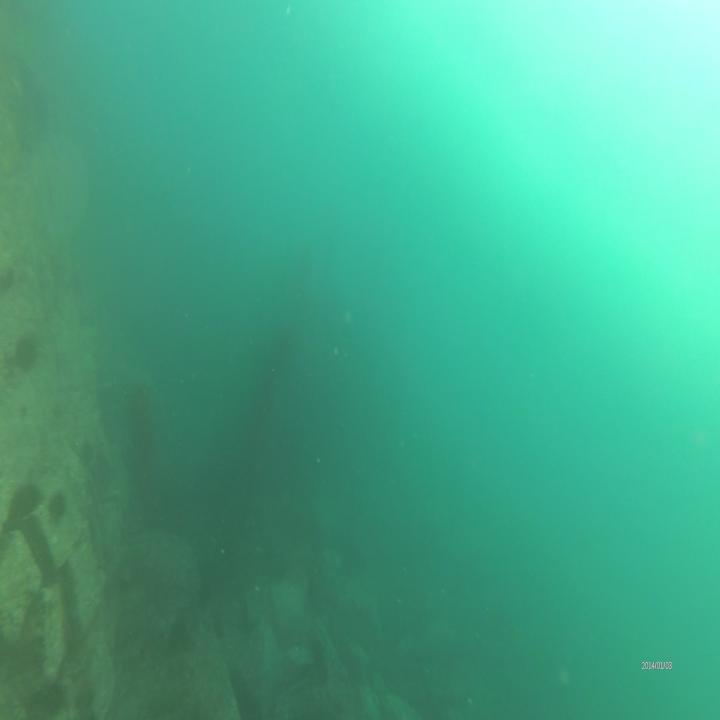echinus: (9, 478, 44, 522), (16, 334, 39, 377), (49, 486, 68, 528), (76, 437, 94, 468), (0, 266, 16, 300)
